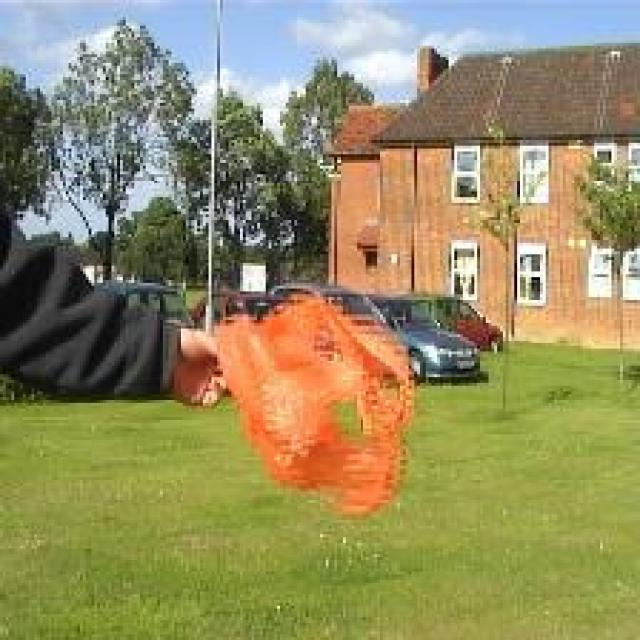other: (188, 300, 418, 514)
